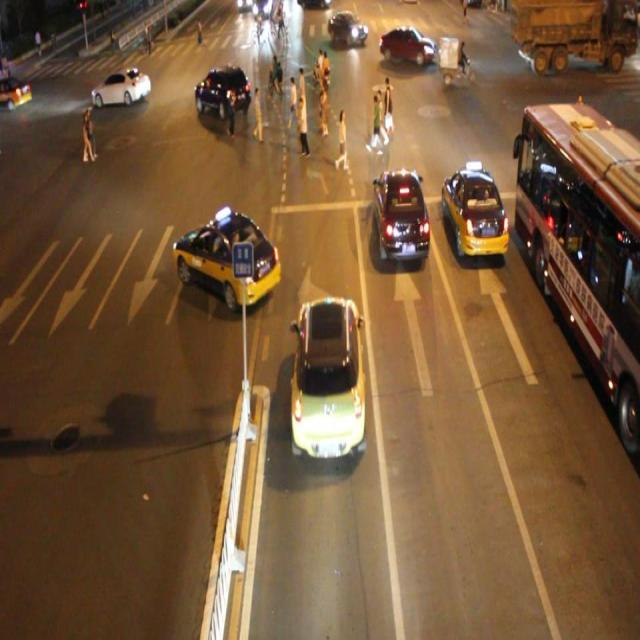car: (292, 296, 366, 454), (173, 212, 280, 308), (441, 170, 508, 260), (372, 167, 429, 264), (194, 62, 251, 120), (91, 65, 150, 108), (380, 24, 434, 67), (328, 10, 367, 48)
van: (512, 103, 640, 470)
